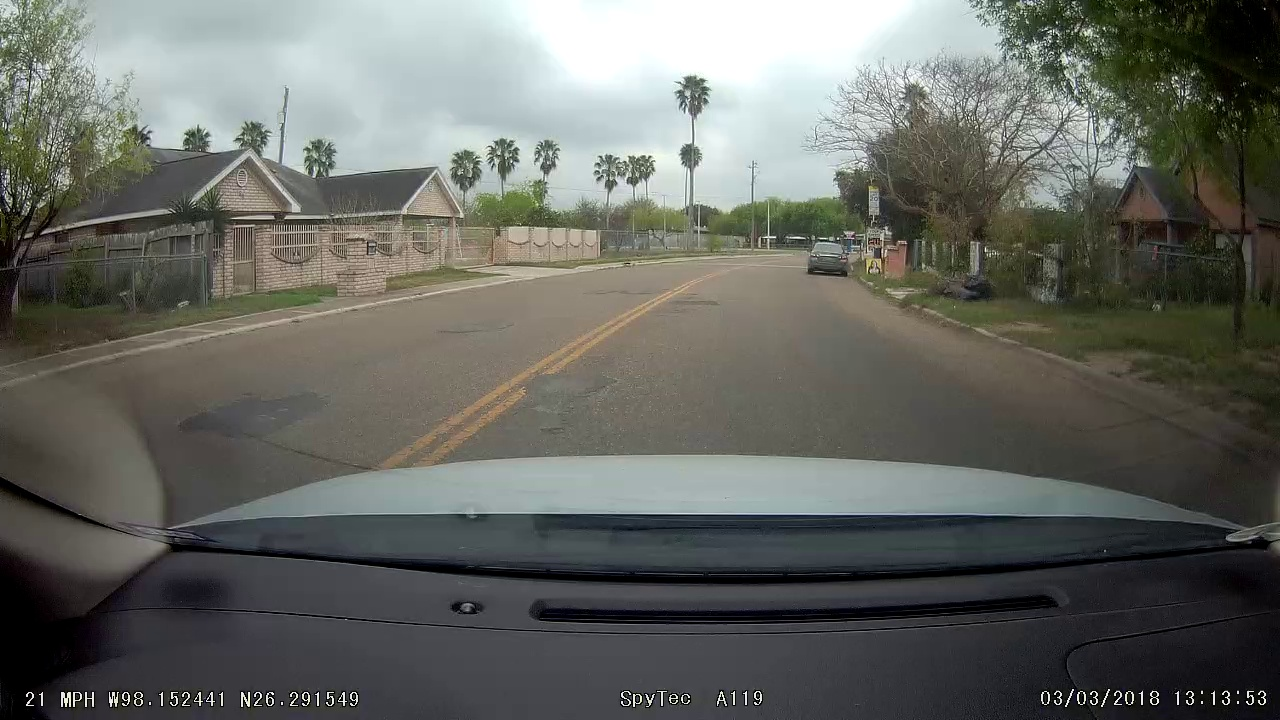pothole: (510, 368, 614, 411)
